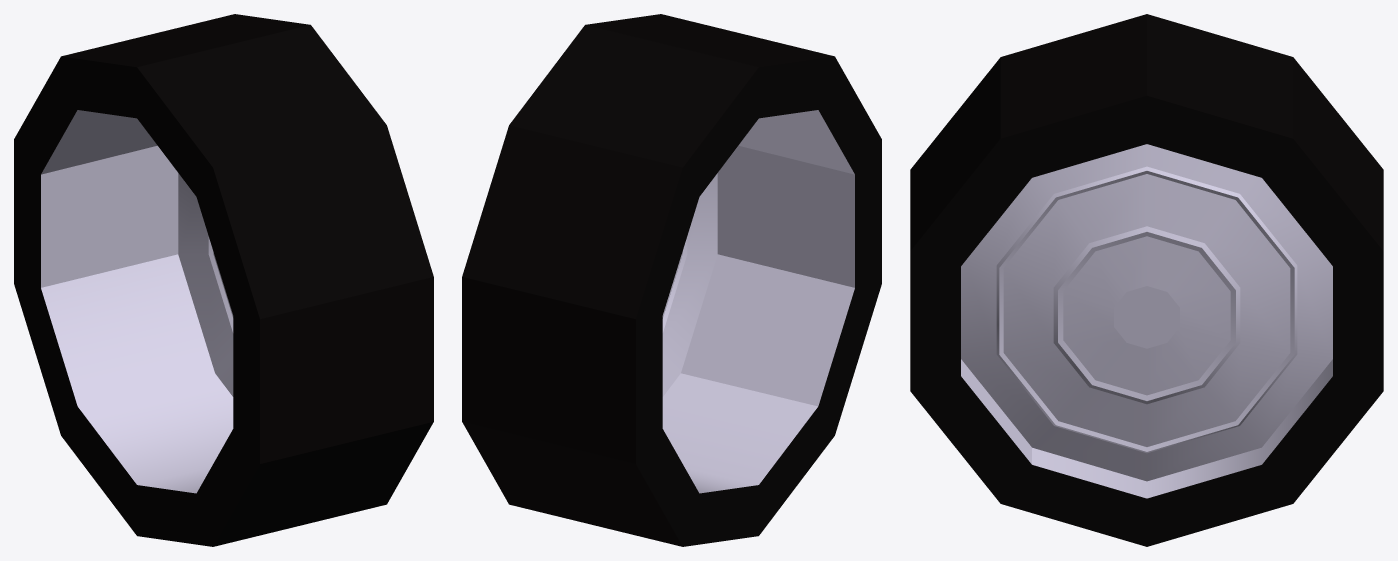
File: Wheel1.fbx
3 renders of one model, left to right at view 1: azimuth 30°, elevation 25°; view 2: azimuth 150°, elevation 25°; view 3: azimuth 270°, elevation 25°, orthographic. The views are drawn at different scales.
Visible parts, largest first — view 1: Wheel1; view 2: Wheel1; view 3: Wheel1.
Part boxes in pixels (bbox=[...]): Wheel1: bbox=[14, 14, 433, 546]; Wheel1: bbox=[462, 14, 881, 546]; Wheel1: bbox=[910, 14, 1383, 546].
Size of the model in its own units: 0.3187 by 0.8212 by 0.781.
